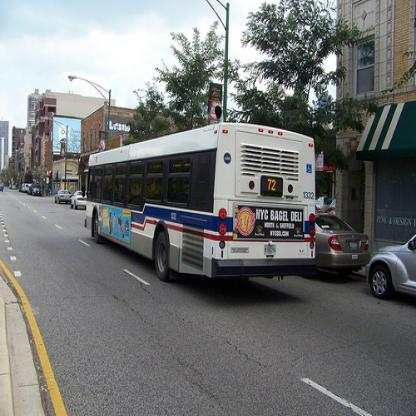bus: (82, 121, 316, 284)
car: (314, 213, 374, 282), (364, 234, 415, 300), (70, 188, 86, 210), (54, 188, 72, 206)
